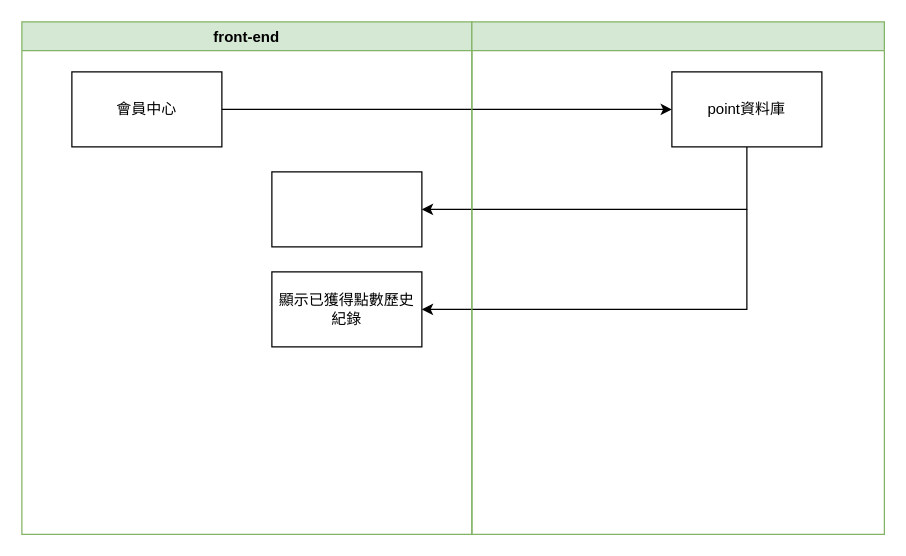
The diagram is 906 pixels wide and 556 high, and some of its shapes have lost their labels. The centre of each missing label's shape, as x and y in pixels:
"DB" belongs at pixel 677 277.
"顯示已使用點數歷史紀錄" belongs at pixel 346 209.
